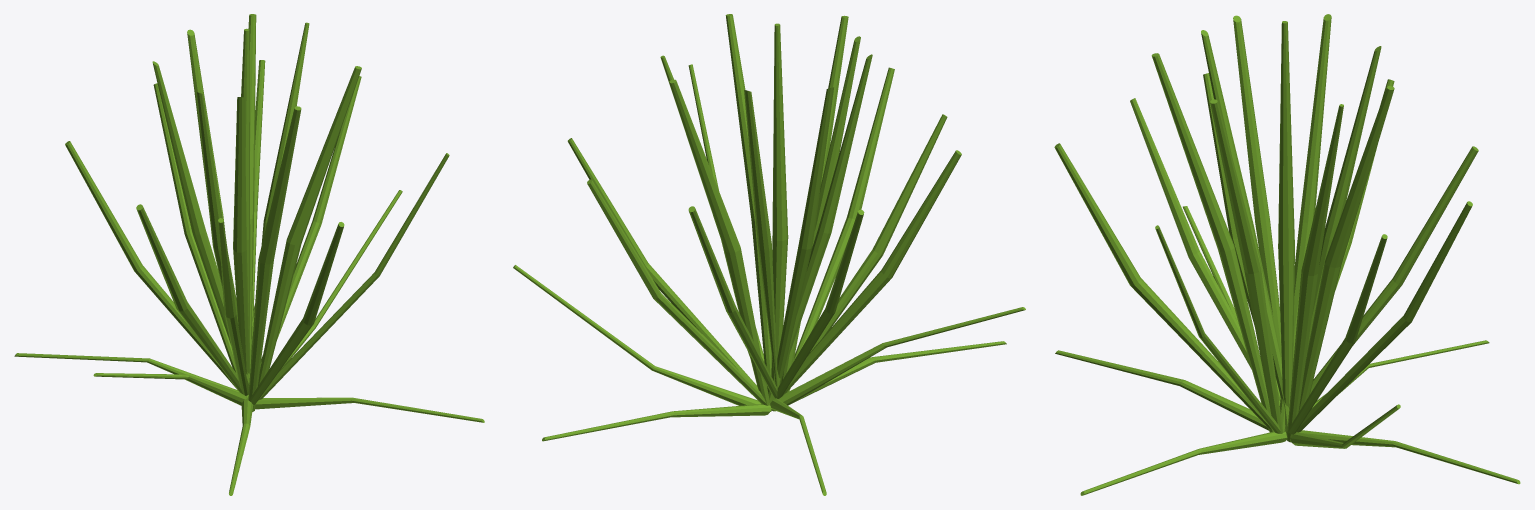
Rendered from Natures2p1-green.fbx.
3 renders of one model, left to right at view 1: azimuth 30°, elevation 25°; view 2: azimuth 150°, elevation 25°; view 3: azimuth 270°, elevation 25°, orthographic. The views are drawn at different scales.
Visible parts, largest first — view 1: p1-green; view 2: p1-green; view 3: p1-green.
Boxes of the visible parts, x1,y1,x2,y2 form: p1-green: [14, 14, 484, 495]; p1-green: [513, 14, 1025, 495]; p1-green: [1054, 14, 1520, 495].
Bounding box in the file's own units: 202 × 180 × 183.
